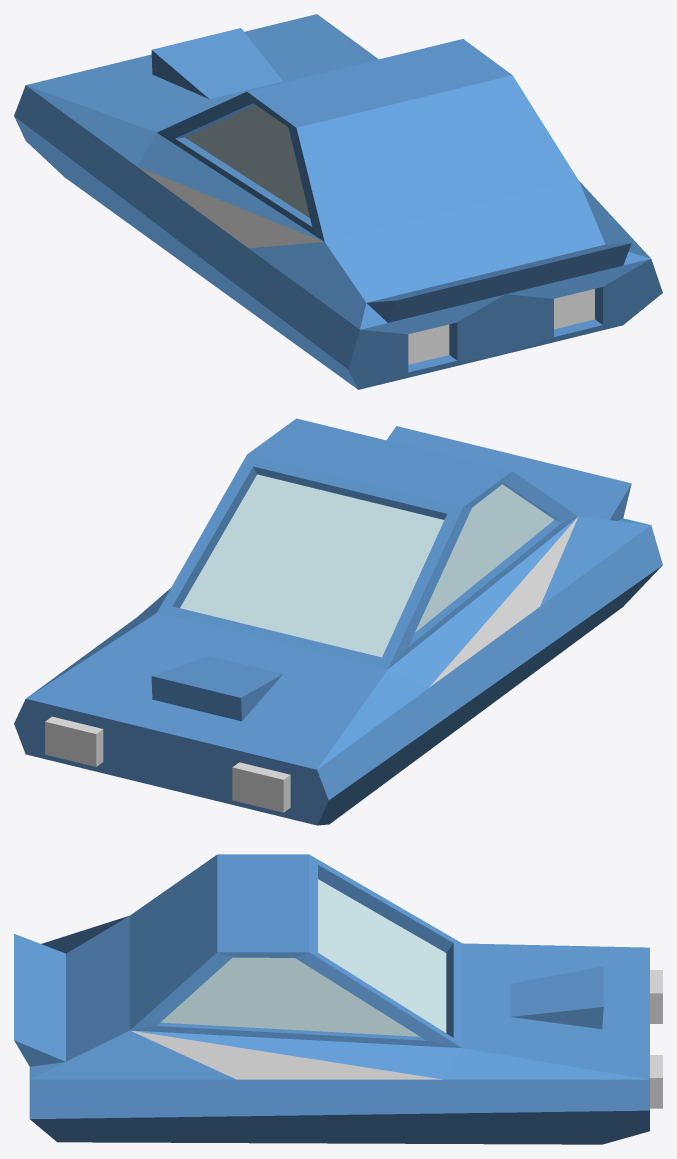
The model's file is Car.fbx.
3 renders of one model, top to bottom at view 1: azimuth 30°, elevation 25°; view 2: azimuth 150°, elevation 25°; view 3: azimuth 270°, elevation 25°, orthographic. The views are drawn at different scales.
Visible parts, largest first — view 1: Cube; view 2: Cube; view 3: Cube.
Part boxes in pixels (x1,y1,x2,y2): Cube: (14,14,662,389); Cube: (14,418,662,825); Cube: (14,854,662,1144).
Bounding box in the file's own units: 216 × 128 × 416.
